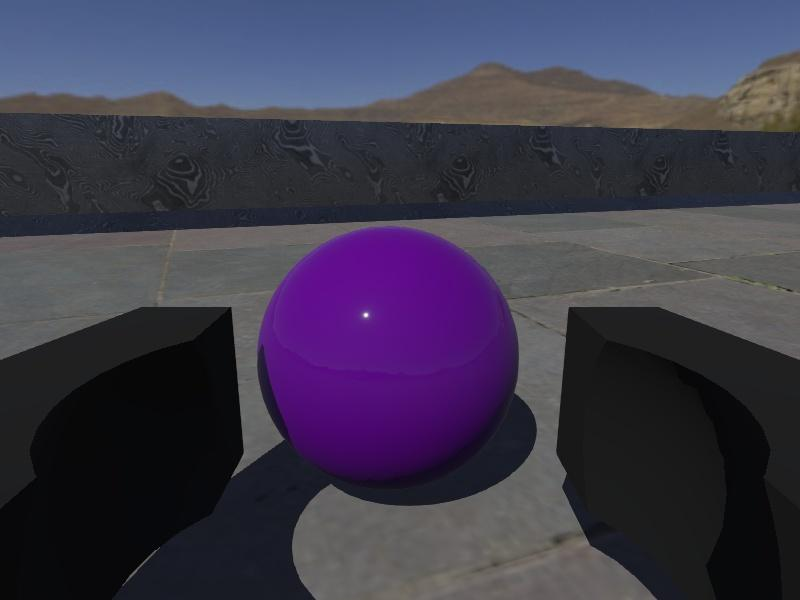violet ball: (256, 225, 520, 491)
